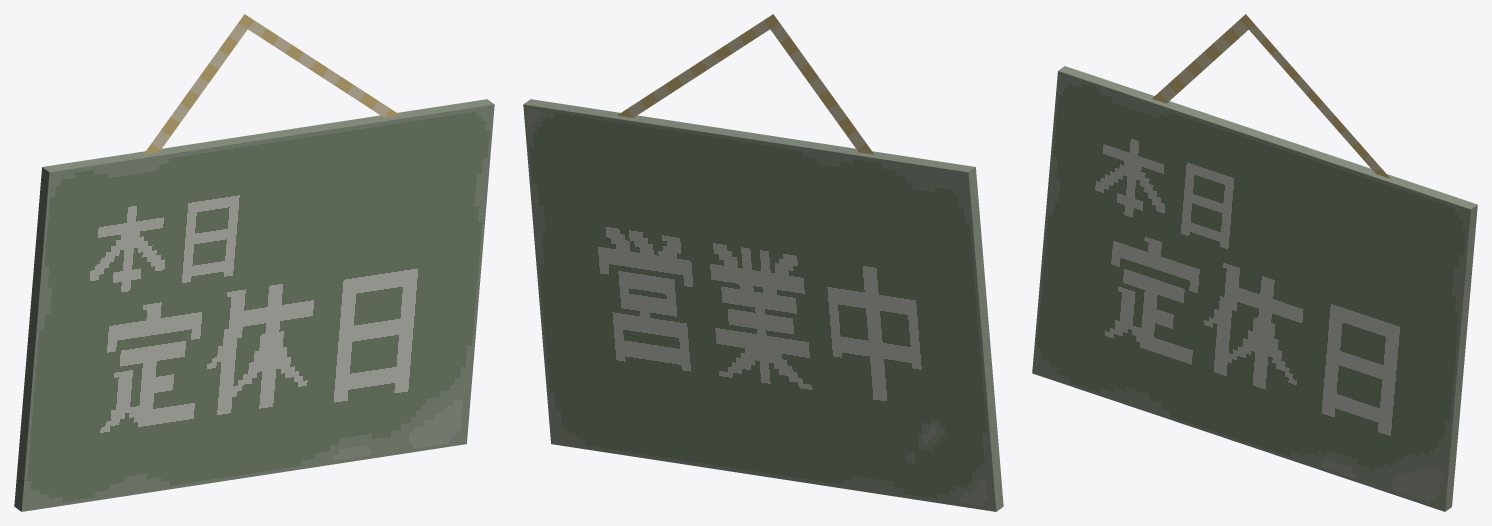
Rendered from 0342_Open_Closed_Sign.glb.
3 renders of one model, left to right at view 1: azimuth 30°, elevation 25°; view 2: azimuth 150°, elevation 25°; view 3: azimuth 330°, elevation 25°, orthographic. The views are drawn at different scales.
Parts seen in each view (by area): view 1: part_0; view 2: part_0; view 3: part_0.
Part boxes in pixels (x1,y1,x2,y2): part_0: [14, 14, 494, 511]; part_0: [523, 14, 1003, 511]; part_0: [1032, 14, 1477, 511].
Size of the model in its own units: 0.4816 by 0.4677 by 0.013.
Materials: 1 (1 with a texture image).
